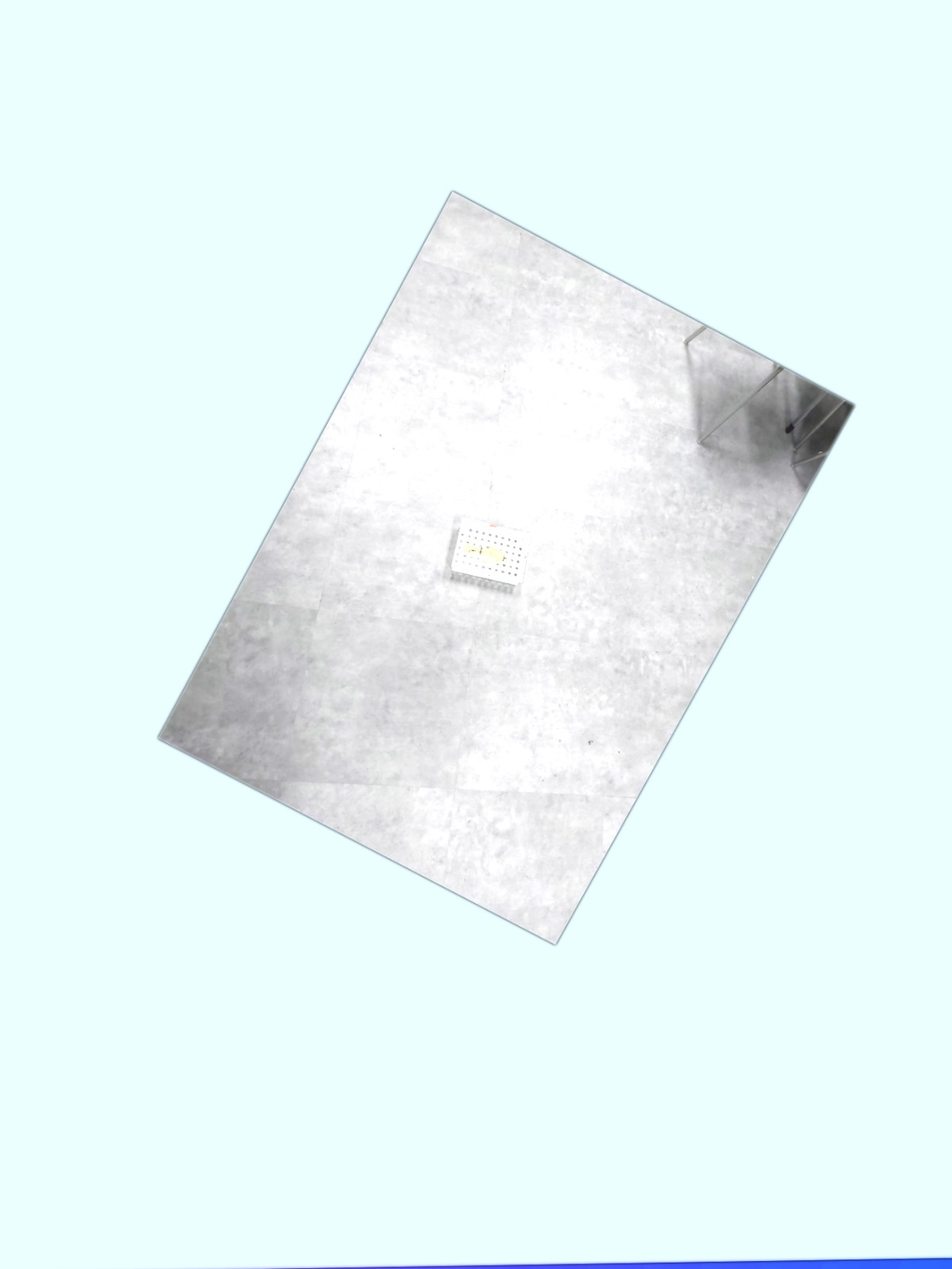basket: (449, 516, 532, 588)
mannequin: (463, 543, 511, 566)
